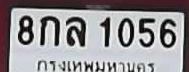0: (117, 17, 134, 47)
1: (99, 16, 111, 48)
5: (138, 17, 155, 48)
6: (159, 18, 177, 48)
8: (17, 14, 34, 45)
A01: (39, 15, 60, 47)
A36: (65, 16, 87, 47)
BKK: (32, 56, 157, 72)
